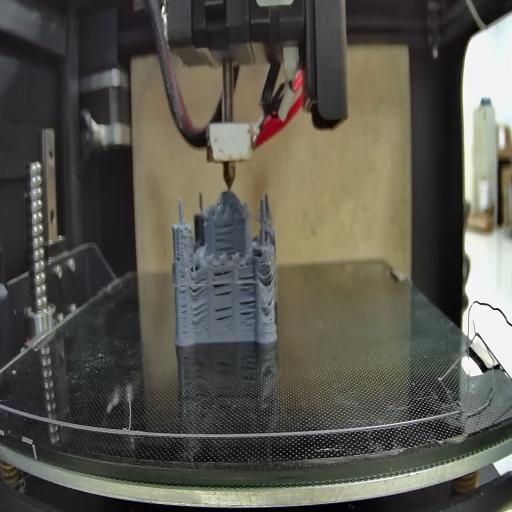cracks: (236, 276, 256, 328), (214, 219, 236, 255), (212, 266, 235, 298), (178, 271, 188, 343), (215, 304, 237, 327), (189, 276, 206, 298), (191, 302, 206, 326), (260, 266, 275, 288), (262, 298, 275, 318), (176, 249, 181, 264)
